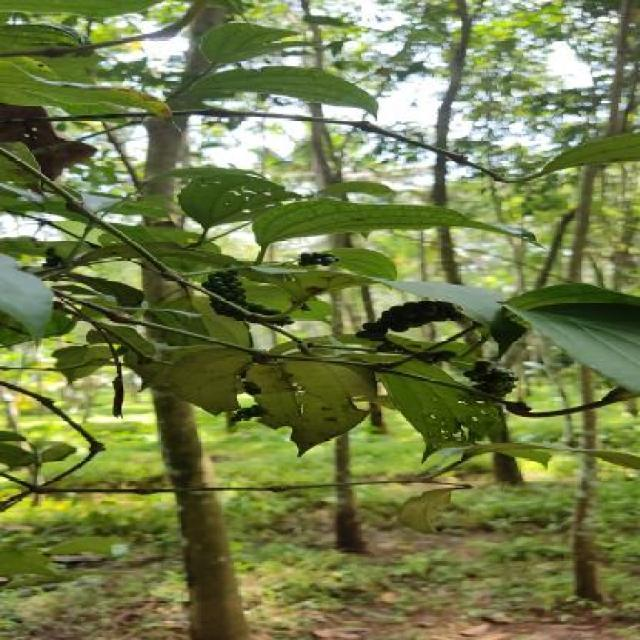UNRIPE: (359, 300, 462, 357), (200, 271, 295, 326), (463, 360, 515, 395), (300, 254, 337, 266)
